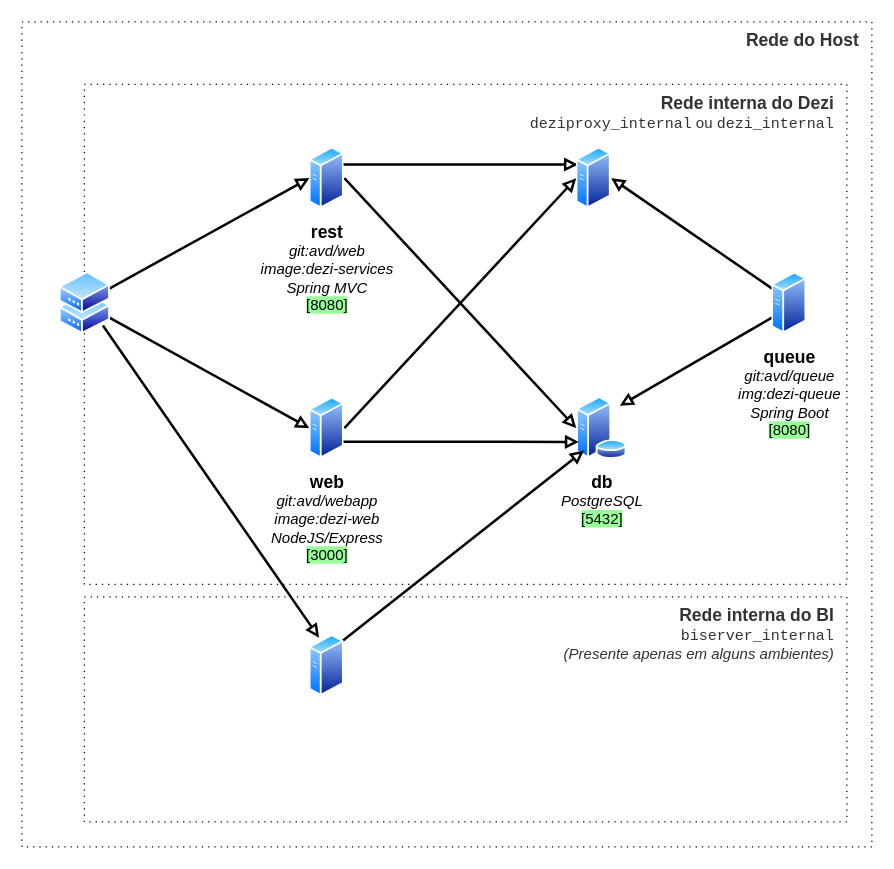
Image size: 894x869. Some labels were removed from this diagram. Each missing label, with the centre of its shape:
bi git:avd/bi Pentaho App Server: pixel 326 665
mq RabbitMQ [5672] [15672]: pixel 593 177
proxy HAProxy [80->80] [443->443] /rest ⇒ rest / ⇒ webapp bi.dezi.com.br ⇒ bi: pixel 84 302
